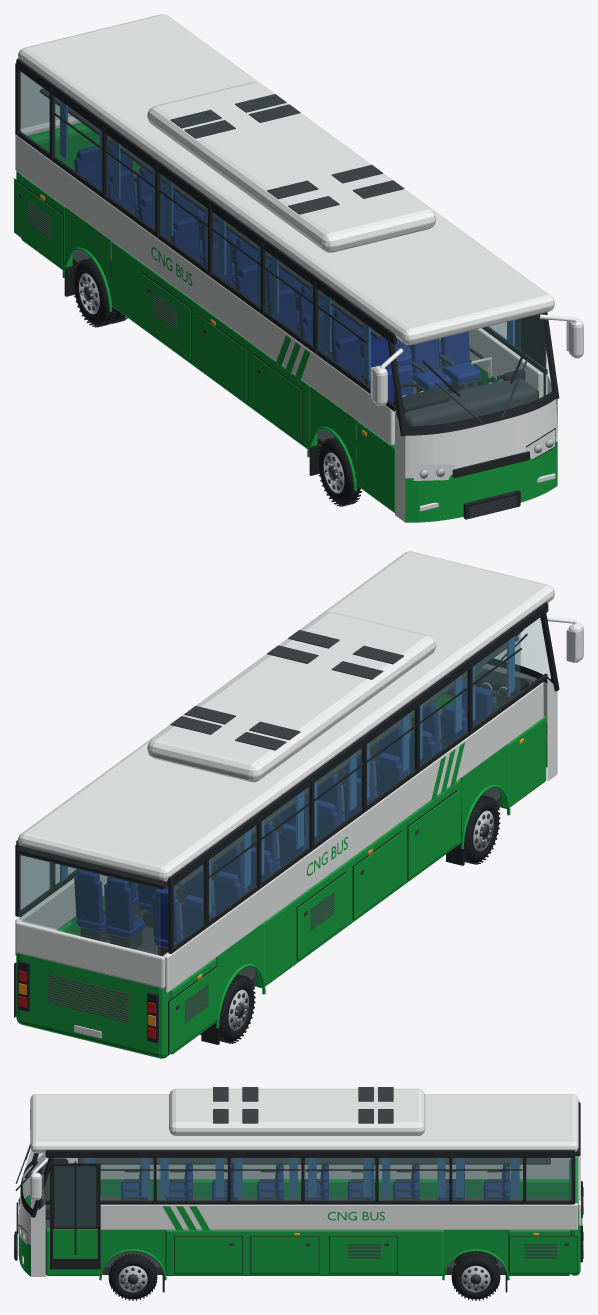
File: coach_lod0.glb
3 renders of one model, top to bottom at view 1: azimuth 30°, elevation 25°; view 2: azimuth 150°, elevation 25°; view 3: azimuth 270°, elevation 25°, orthographic. The views are drawn at different scales.
Visible parts, largest first — view 1: Body, Wheel_Rear_Left, Wheel_Front_Left; view 2: Body, Wheel_Front_Left, Wheel_Rear_Left; view 3: Body, Wheel_Rear_Right, Wheel_Front_Right.
Part boxes in pixels (x1,y1,x2,y2): Body: [14, 14, 583, 522]; Wheel_Rear_Left: [72, 258, 127, 327]; Wheel_Front_Left: [317, 437, 361, 506]; Body: [14, 551, 583, 1058]; Wheel_Front_Left: [461, 795, 500, 864]; Wheel_Rear_Left: [200, 974, 255, 1043]; Body: [14, 1087, 583, 1292]; Wheel_Rear_Right: [451, 1251, 500, 1300]; Wheel_Front_Right: [108, 1253, 157, 1300].
Bounding box in the file's own units: 3.41 × 3.82 × 11.57.
